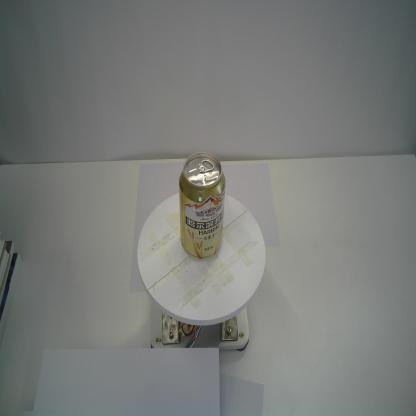Alcohol: (177, 152, 227, 260)
